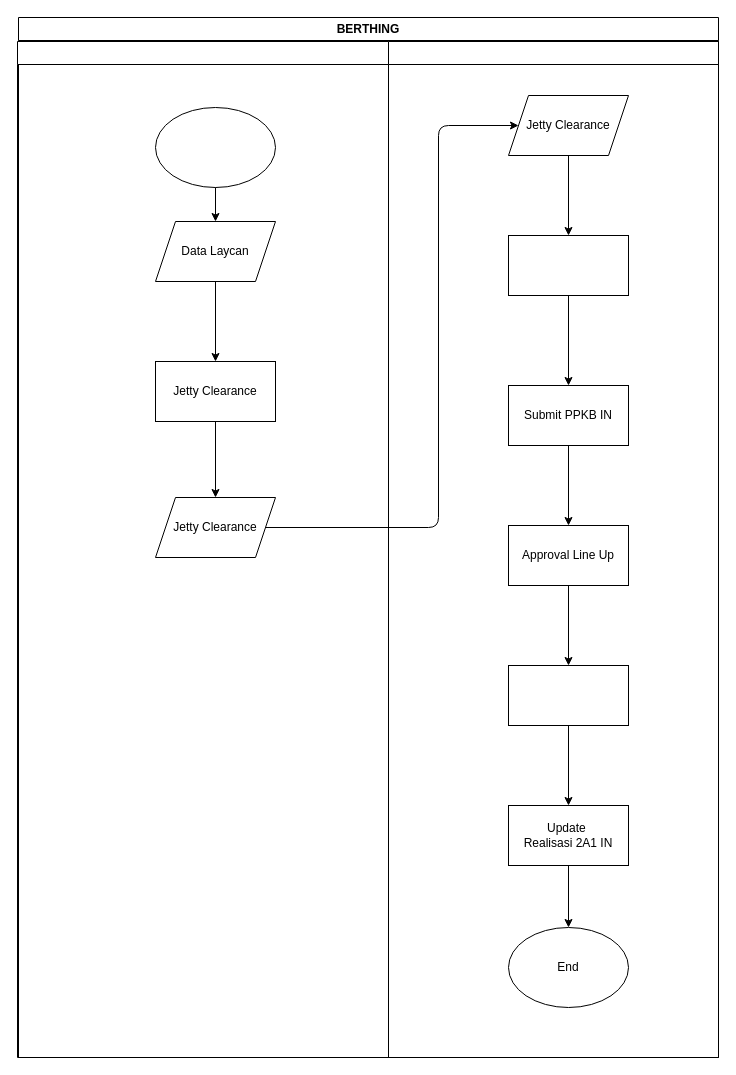
Some shapes in this 736 by 1075 pixel diagram are drawn without their labels. The shapes that lost their labels are listed below. From the top down, each one's box as (x1, y1, x2, y2) in pixels, then its label:
(154, 106, 276, 188): Start
(508, 234, 628, 296): Entry SPM/SPB
(16, 40, 388, 1058): Agen Kapal
(388, 40, 718, 1058): BUP
(508, 664, 628, 726): SPK Pandu Tunda IN
